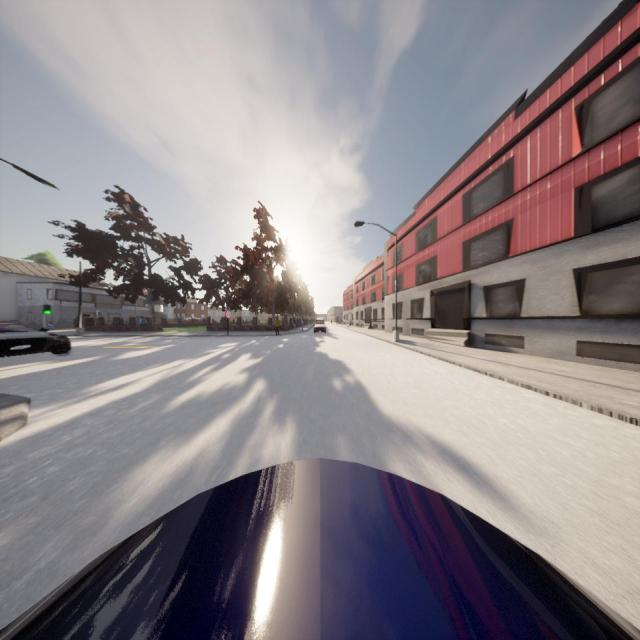Pedestrian: (275, 316, 280, 336), (293, 319, 297, 332), (300, 319, 304, 331)
Traffic_Signs: (225, 310, 231, 320)
Vehicle: (0, 459, 640, 639), (0, 322, 70, 356), (313, 317, 327, 333)
traffic_light: (42, 305, 52, 315)
